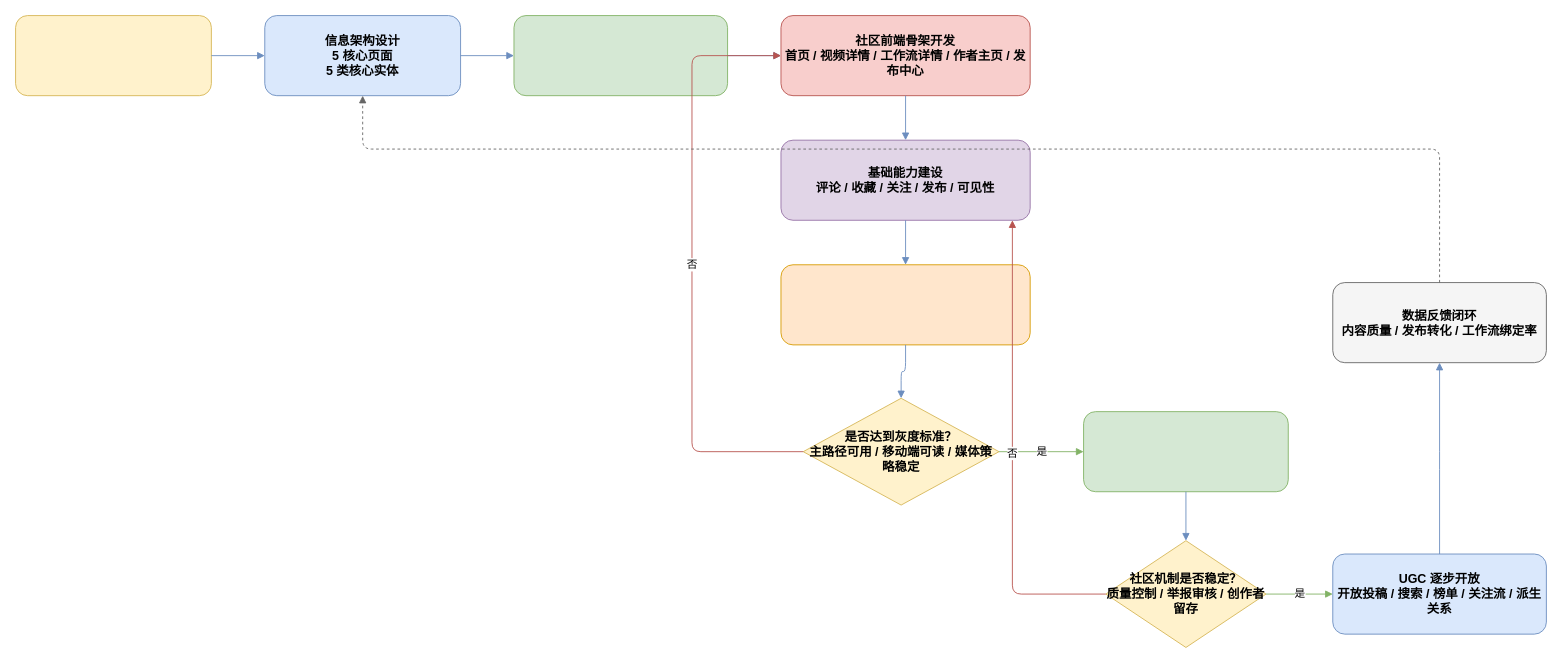
The diagram is 1562 pixels wide and 663 high, and some of its shapes have lost their labels. Here are the shapes that lost their labels. From the top down, the centre of each, then its label:
At (113,55): "目标与术语对齐 明确 PGC / PUGC / UGC 补齐 QL / QC 术语表".
At (620,55): "PGC 内容冷启动 官方样片 / 工作流 / 作者 / 讨论主题".
At (905,304): "画布联动接口位 绑定工作流 / 复制工作流 / 在画布中打开".
At (1185,451): "PUGC 白名单试运营 邀请创作者投稿 人工精选与审核".
